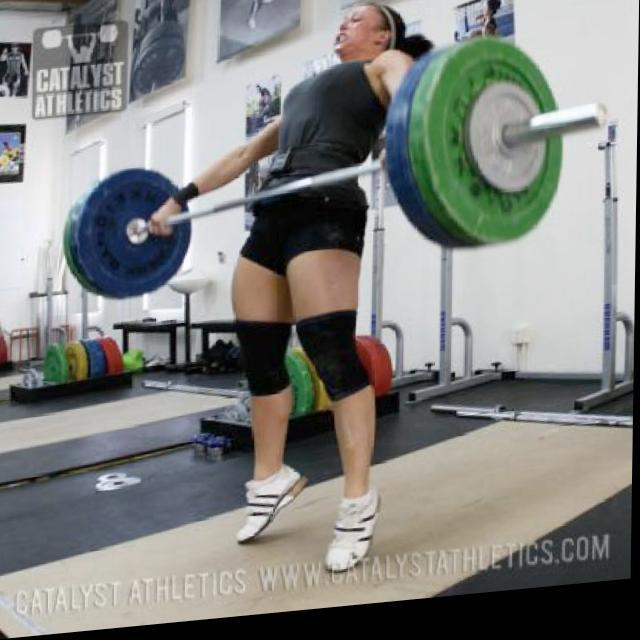barbell: (419, 38, 612, 267)
